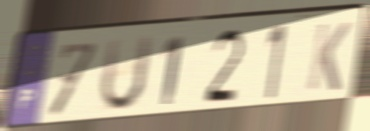1: (265, 22, 288, 102), (161, 34, 183, 107)
2: (203, 26, 248, 106)
7: (47, 38, 99, 119)
K: (304, 20, 353, 93)
U: (98, 32, 156, 115)
